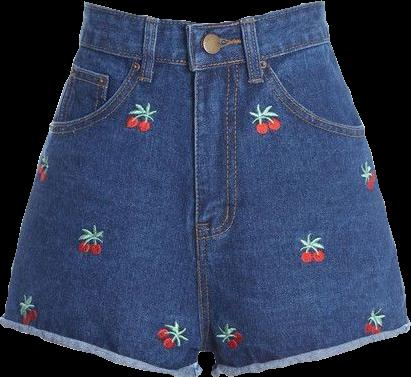Hemline: (0, 318, 203, 376), (211, 326, 410, 376)
Pantleg: (185, 1, 410, 376), (0, 2, 202, 376)
Waistline: (78, 37, 331, 68), (84, 0, 325, 25)
